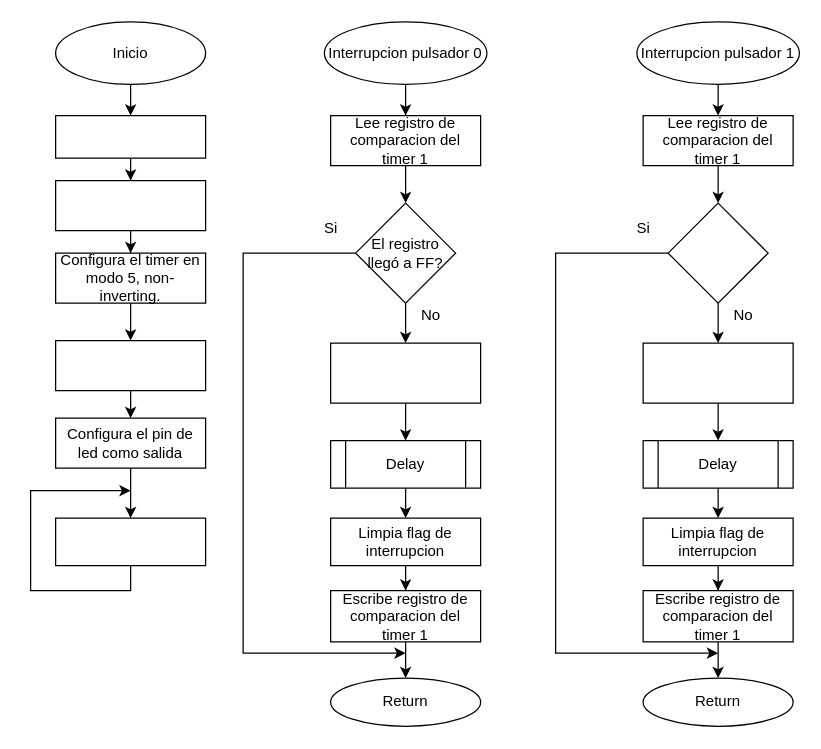
Some shapes in this 821 by 749 pixel diagram are drawn without their labels. Here are the shapes that lost their labels. From the top down, the box of each, then its label:
(54, 114, 206, 158): Inicializa stack pointer
(54, 179, 206, 231): Inicializa registro de comparacion del timer 1.
(667, 202, 768, 303): El registro llegó a 0?
(54, 339, 206, 391): Habilita interrupciones externas.
(329, 342, 481, 403): Aumenta valor del registro
(642, 342, 793, 403): Disminuye valor del registro
(54, 517, 206, 566): Espera interrupcion
